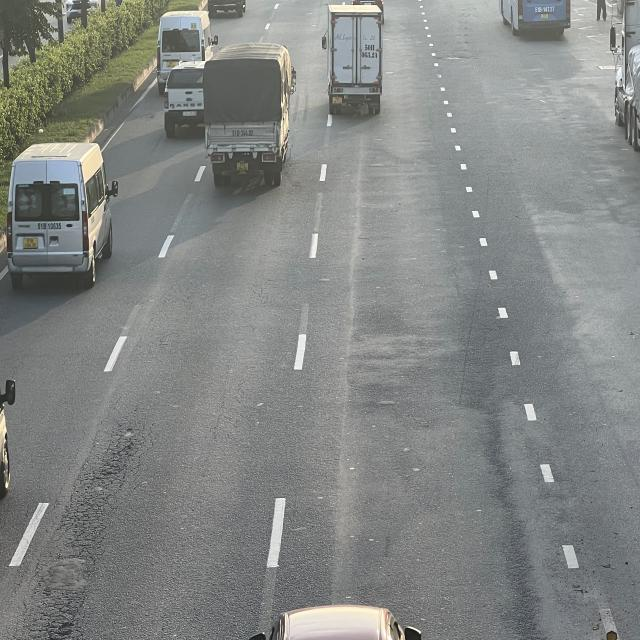car: (163, 61, 214, 136)
truck: (203, 41, 297, 185), (322, 5, 385, 118)
van: (8, 141, 120, 287), (155, 11, 217, 91)
